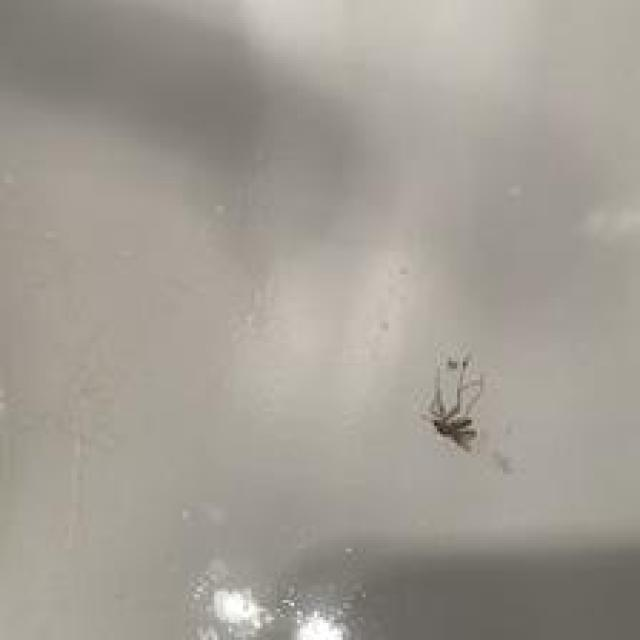Culex: (422, 347, 484, 453)
